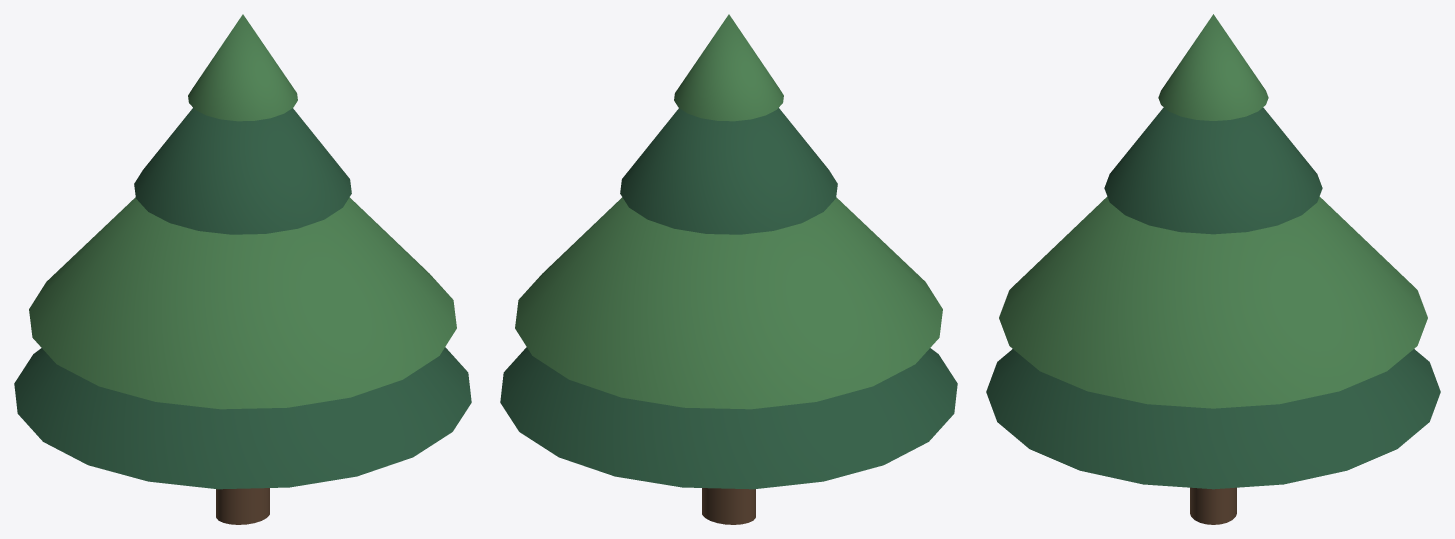
File: Tree1.fbx
3 renders of one model, left to right at view 1: azimuth 30°, elevation 25°; view 2: azimuth 150°, elevation 25°; view 3: azimuth 270°, elevation 25°, orthographic.
Visible parts, largest first — view 1: pCylinder2; view 2: pCylinder2; view 3: pCylinder2.
Part boxes in pixels (x1=…): pCylinder2: x1=14, y1=14, x2=471, y2=524; pCylinder2: x1=500, y1=14, x2=957, y2=524; pCylinder2: x1=986, y1=14, x2=1440, y2=524.
Size of the model in its own units: 9.96 by 11.91 by 9.84.
